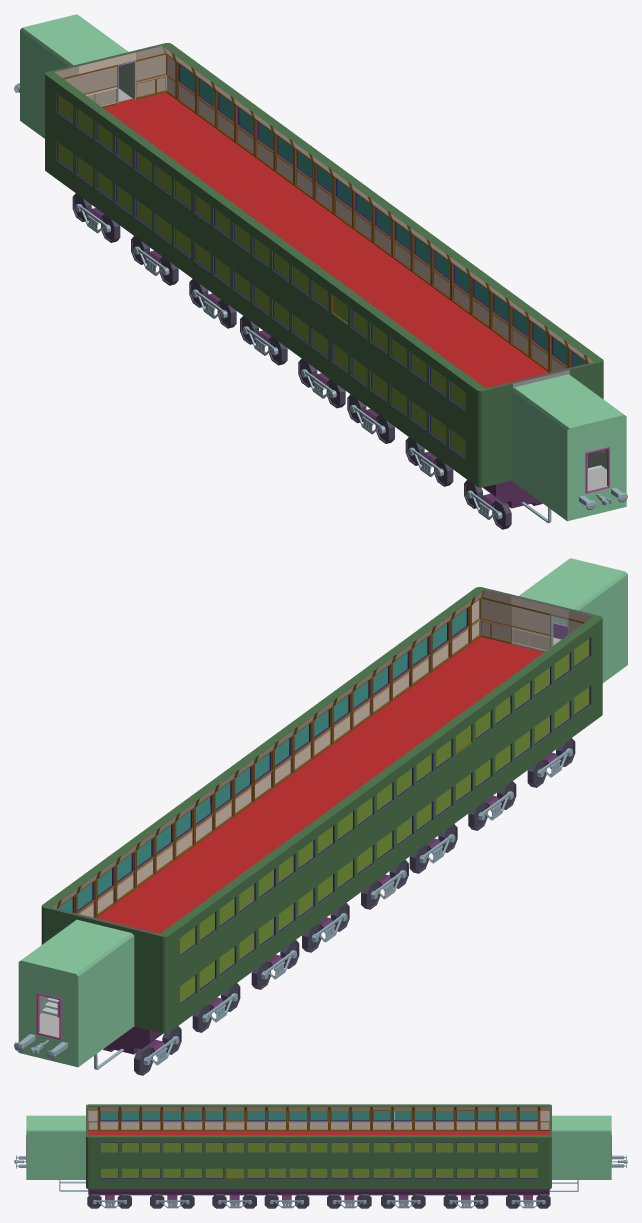
Rendered from Carts_DoubleDecker.fbx.
3 views of the same model, one above another, from view 1: azimuth 30°, elevation 25°; view 2: azimuth 150°, elevation 25°; view 3: azimuth 270°, elevation 25° (orthographic). The views are drawn at different scales.
Parts seen in each view (by area): view 1: polySurface2950; view 2: polySurface2950; view 3: polySurface2950.
Boxes of the visible parts, x1,y1,x2,y2 form: polySurface2950: [14, 14, 627, 529]; polySurface2950: [14, 558, 627, 1075]; polySurface2950: [14, 1104, 627, 1208].
Bounding box in the file's own units: 9.16 × 10.26 × 72.19.
